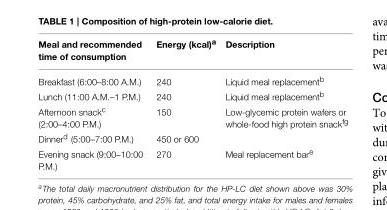table: (37, 37, 347, 170)
table column: (219, 37, 347, 170), (37, 37, 148, 170), (148, 37, 219, 170)
table column header: (37, 37, 347, 67)
table row: (37, 37, 347, 67), (37, 103, 347, 130), (37, 145, 347, 170), (37, 67, 347, 88), (37, 88, 347, 103), (37, 130, 347, 145)
